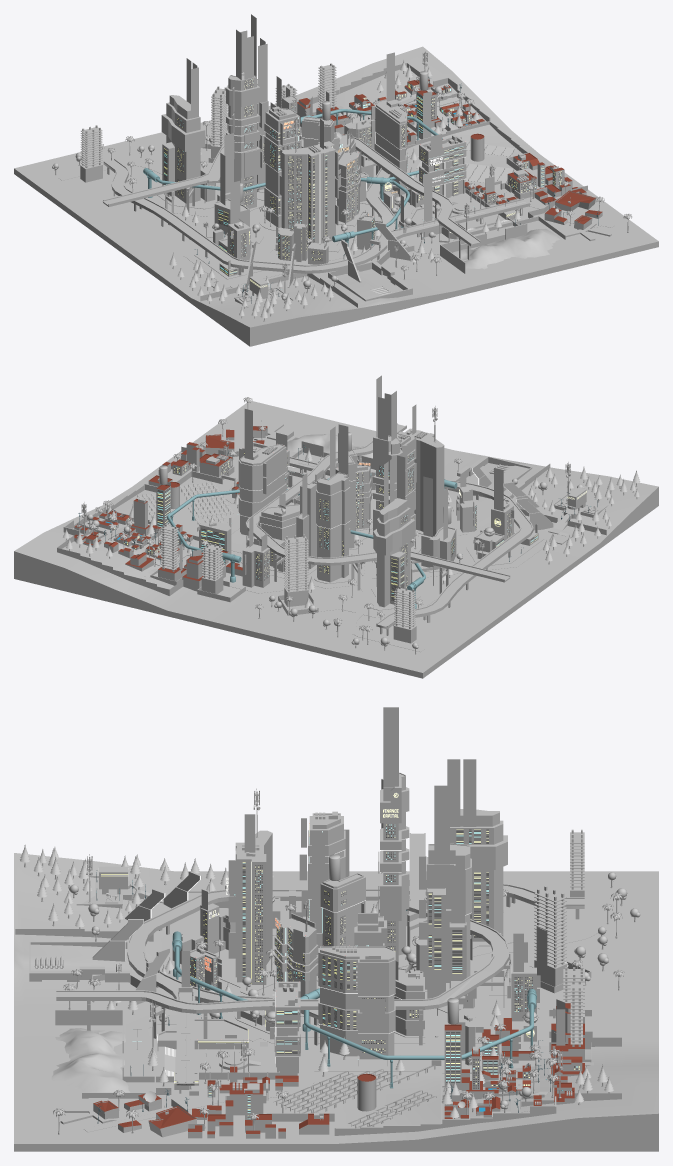
The picture shows the model from 3 angles, top to bottom: view 1: azimuth 30°, elevation 25°; view 2: azimuth 150°, elevation 25°; view 3: azimuth 270°, elevation 25°; orthographic projection. The views are drawn at different scales.
Visible parts, largest first — view 1: Terrain, Buildings_0, Buildings_0_1, Buildings_adds, Bridge_base, Terrain_base, Buildings_1, Trees_Terrain, Buildings_Windows, Buildings_2, Streets, Publicity_2D_1 (+17 smaller); view 2: Terrain, Buildings_0, Terrain_base, Buildings_0_1, Buildings_adds, Trees_Terrain, Streets, Buildings_1, Buildings_2, Bridge_base, Buildings_3, Publicity_2D (+16 smaller); view 3: Terrain, Buildings_0, Buildings_adds, Buildings_0_1, Terrain_base, Streets, Trees_Terrain, Bridge_base, Buildings_2, Buildings_Windows, Publicity_2D, Buildings_2_top (+18 smaller).
Boxes of the visible parts, x1,y1,x2,y2 form: Terrain: [14, 46, 658, 327]; Buildings_0: [162, 77, 462, 244]; Buildings_0_1: [161, 73, 466, 215]; Buildings_adds: [202, 77, 611, 307]; Bridge_base: [102, 133, 530, 273]; Terrain_base: [14, 168, 658, 346]; Buildings_1: [80, 122, 519, 276]; Trees_Terrain: [52, 60, 632, 321]; Buildings_Windows: [164, 79, 561, 275]; Buildings_2: [297, 80, 602, 229]; Streets: [58, 139, 614, 288]; Publicity_2D_1: [190, 52, 432, 224]; Terrain: [14, 400, 658, 672]; Buildings_0: [240, 435, 444, 607]; Terrain_base: [14, 487, 658, 678]; Buildings_0_1: [238, 435, 415, 555]; Buildings_adds: [63, 419, 608, 615]; Trees_Terrain: [63, 397, 640, 654]; Streets: [223, 424, 564, 651]; Buildings_1: [199, 488, 538, 643]; Buildings_2: [74, 426, 267, 591]; Bridge_base: [245, 424, 533, 629]; Buildings_3: [160, 524, 415, 628]; Publicity_2D: [276, 375, 466, 507]; Terrain: [14, 853, 658, 1143]; Buildings_0: [235, 776, 503, 1075]; Buildings_adds: [29, 866, 592, 1135]; Buildings_0_1: [274, 777, 507, 1075]; Terrain_base: [14, 1113, 658, 1151]; Streets: [84, 886, 602, 1131]; Trees_Terrain: [20, 844, 640, 1134]; Bridge_base: [56, 833, 584, 1085]; Buildings_2: [93, 1007, 584, 1138]; Buildings_Windows: [190, 824, 579, 1118]; Publicity_2D: [181, 707, 476, 994]; Buildings_2_top: [93, 1003, 584, 1134].
Size of the model in its own units: 100000 by 45561 by 100000.
